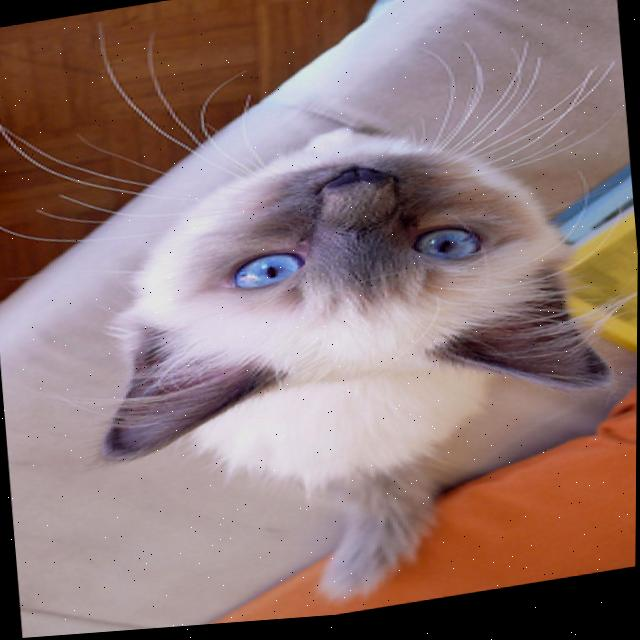Birman: (53, 86, 639, 637)
